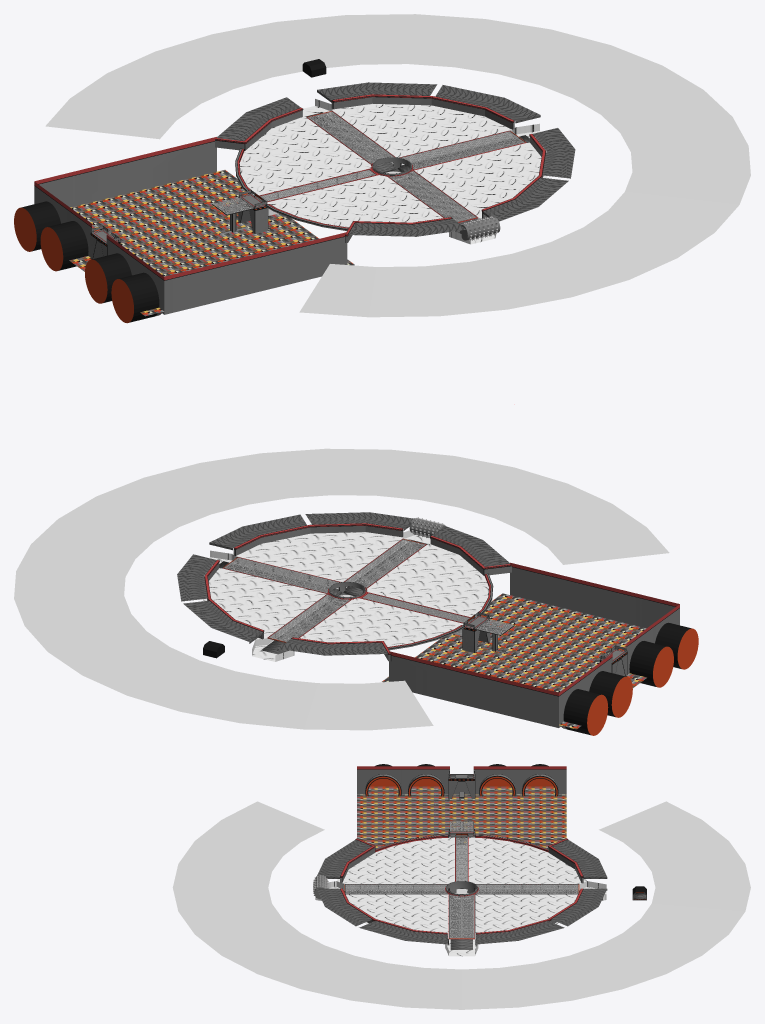
The model's file is PhaseTwoArena.fbx.
3 views of the same model, one above another, from view 1: azimuth 30°, elevation 25°; view 2: azimuth 150°, elevation 25°; view 3: azimuth 270°, elevation 25° (orthographic). The views are drawn at different scales.
Parts seen in each view (by area): view 1: Cover Plane, Phase two Floor, Plane.013, Plane.014, Round Belt, Phase two Grates, Arena Walls, Cylinder.016, Cylinder.014, Phase two Pot, Floor Belts, Cylinder.013 (+3 smaller); view 2: Cover Plane, Phase two Floor, Plane.013, Plane.014, Round Belt, Phase two Grates, Arena Walls, Cylinder.013, Floor Belts, Cylinder.015, Phase two Pot, Cylinder.014 (+2 smaller); view 3: Cover Plane, Phase two Floor, Plane.014, Round Belt, Phase two Grates, Plane.013, Arena Walls, Phase two Pot, Floor Belts, Exit.001, Cylinder.013, Cylinder.015 (+2 smaller).
Boxes of the visible parts, bbox=[...] form: Cover Plane: bbox=[45, 14, 750, 317]; Phase two Floor: bbox=[239, 99, 547, 244]; Plane.013: bbox=[34, 137, 347, 314]; Plane.014: bbox=[69, 170, 354, 316]; Round Belt: bbox=[217, 82, 575, 236]; Phase two Grates: bbox=[257, 111, 524, 221]; Arena Walls: bbox=[215, 94, 545, 242]; Cylinder.016: bbox=[111, 272, 161, 323]; Cylinder.014: bbox=[40, 221, 88, 271]; Phase two Pot: bbox=[256, 110, 526, 222]; Floor Belts: bbox=[305, 112, 529, 233]; Cylinder.013: bbox=[14, 201, 60, 251]; Cover Plane: bbox=[14, 448, 669, 730]; Phase two Floor: bbox=[203, 530, 488, 661]; Plane.013: bbox=[389, 562, 679, 727]; Plane.014: bbox=[382, 593, 646, 729]; Round Belt: bbox=[177, 512, 509, 655]; Phase two Grates: bbox=[224, 539, 472, 641]; Arena Walls: bbox=[204, 523, 511, 661]; Cylinder.013: bbox=[561, 689, 608, 735]; Floor Belts: bbox=[219, 540, 428, 654]; Cylinder.015: bbox=[629, 641, 673, 687]; Phase two Pot: bbox=[222, 538, 473, 642]; Cylinder.014: bbox=[589, 671, 632, 717]; Cover Plane: bbox=[172, 801, 750, 1009]; Phase two Floor: bbox=[315, 837, 606, 956]; Plane.014: bbox=[357, 786, 566, 848]; Round Belt: bbox=[317, 839, 607, 944]; Phase two Grates: bbox=[345, 837, 578, 938]; Plane.013: bbox=[357, 766, 566, 794]; Arena Walls: bbox=[340, 835, 583, 934]; Phase two Pot: bbox=[344, 837, 579, 939]; Floor Belts: bbox=[344, 890, 579, 949]; Exit.001: bbox=[448, 770, 475, 799]; Cylinder.013: bbox=[522, 764, 558, 796]; Cylinder.015: bbox=[408, 764, 444, 796].
Size of the model in its own units: 414 by 328 by 28.26.
